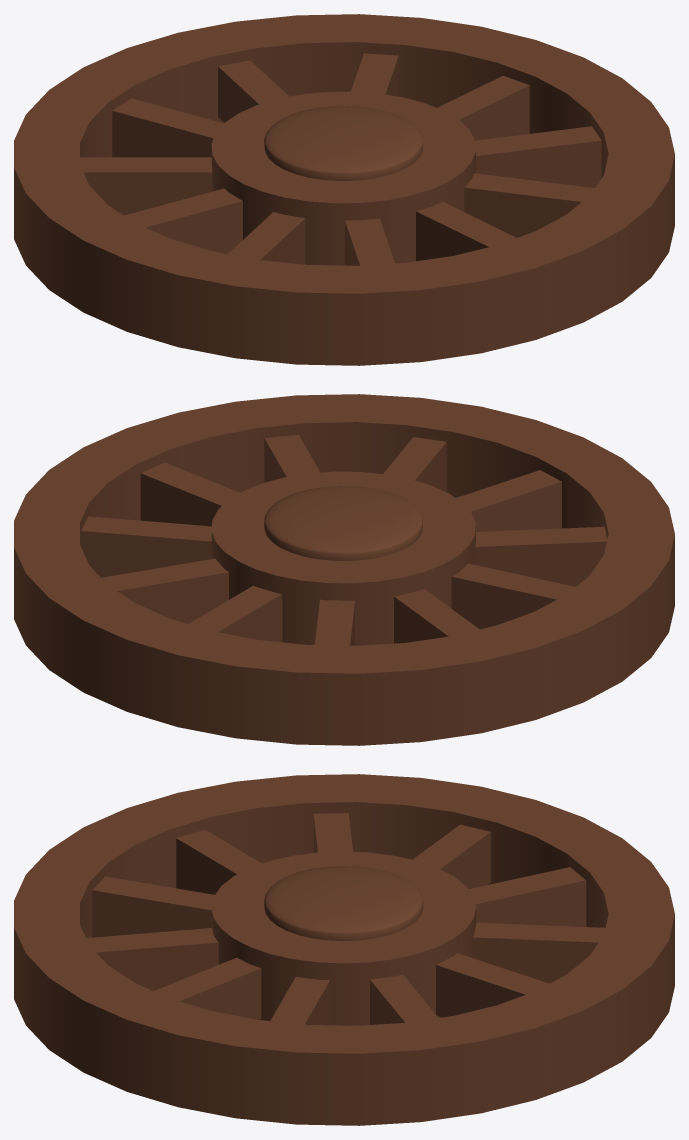
File: cartwheel.fbx
3 views of the same model, one above another, from view 1: azimuth 30°, elevation 25°; view 2: azimuth 150°, elevation 25°; view 3: azimuth 270°, elevation 25° (orthographic).
Visible parts, largest first — view 1: Cylinder; view 2: Cylinder; view 3: Cylinder.
Boxes of the visible parts, bbox=[...] form: Cylinder: bbox=[14, 14, 674, 365]; Cylinder: bbox=[14, 394, 674, 745]; Cylinder: bbox=[14, 774, 674, 1125].
Bounding box in the file's own units: 200 × 38.65 × 200.
